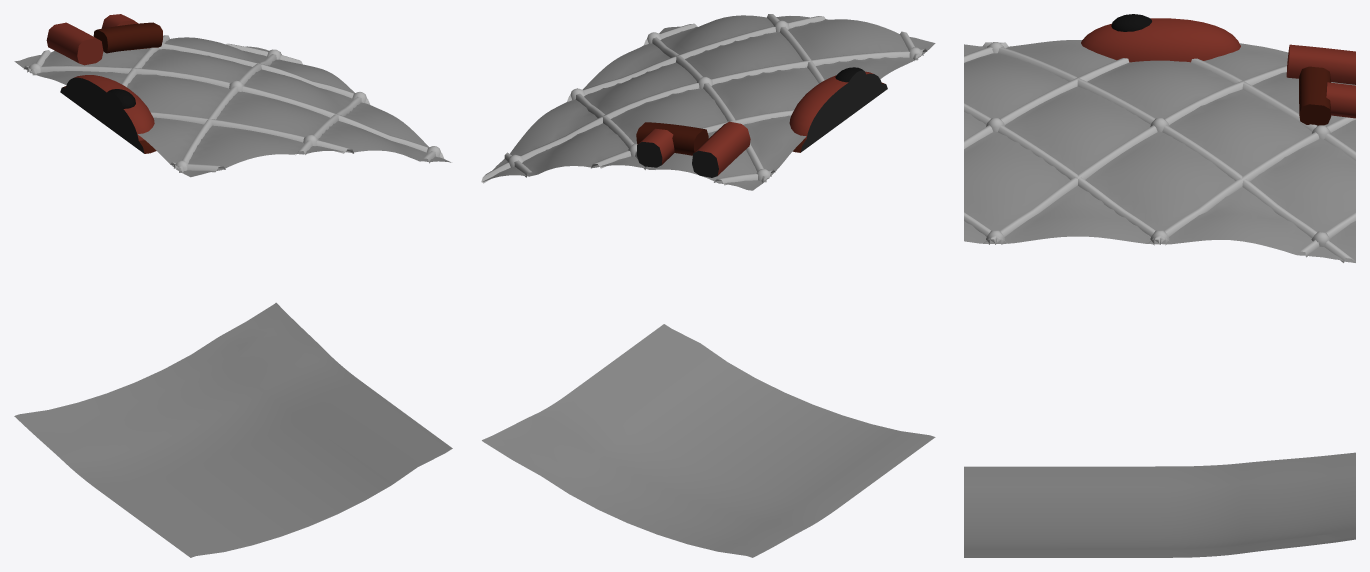
The model's file is zeppelin_81.glb.
3 renders of one model, left to right at view 1: azimuth 30°, elevation 25°; view 2: azimuth 150°, elevation 25°; view 3: azimuth 270°, elevation 25°, orthographic. The views are drawn at different scales.
Parts seen in each view (by area): view 1: envelope.001, net_ropes.001, pod.001, gate_leg_in_r.001, gate_foot_r.001, pod_collar.001, net_knots.001, pod_visor.001; view 2: envelope.001, net_ropes.001, pod.001, gate_leg_in_r.001, gate_foot_r.001, gate_leg_out_r.001, net_knots.001, pod_collar.001; view 3: envelope.001, net_ropes.001, pod.001, gate_leg_in_r.001, gate_foot_r.001, net_knots.001, gate_leg_out_r.001, pod_visor.001.
Boxes of the visible parts, x1=… form: envelope.001: x1=14, y1=37, x2=452, y2=557; net_ropes.001: x1=24, y1=35, x2=444, y2=173; pod.001: x1=65, y1=75, x2=154, y2=147; gate_leg_in_r.001: x1=46, y1=22, x2=103, y2=65; gate_foot_r.001: x1=93, y1=22, x2=162, y2=53; pod_collar.001: x1=60, y1=86, x2=156, y2=153; net_knots.001: x1=27, y1=41, x2=440, y2=172; pod_visor.001: x1=105, y1=89, x2=135, y2=113; envelope.001: x1=482, y1=15, x2=935, y2=557; net_ropes.001: x1=481, y1=14, x2=926, y2=185; pod.001: x1=789, y1=71, x2=881, y2=147; gate_leg_in_r.001: x1=692, y1=121, x2=750, y2=177; gate_foot_r.001: x1=636, y1=122, x2=708, y2=155; gate_leg_out_r.001: x1=636, y1=128, x2=674, y2=167; net_knots.001: x1=507, y1=20, x2=923, y2=182; pod_collar.001: x1=793, y1=82, x2=887, y2=152; envelope.001: x1=964, y1=40, x2=1355, y2=557; net_ropes.001: x1=964, y1=42, x2=1355, y2=262; pod.001: x1=1081, y1=18, x2=1240, y2=62; gate_leg_in_r.001: x1=1286, y1=44, x2=1355, y2=84; gate_foot_r.001: x1=1299, y1=66, x2=1331, y2=125; net_knots.001: x1=986, y1=42, x2=1330, y2=246; gate_leg_out_r.001: x1=1326, y1=82, x2=1355, y2=118; pod_visor.001: x1=1111, y1=14, x2=1151, y2=31.
Size of the model in its own units: 24 by 35.99 by 28.
